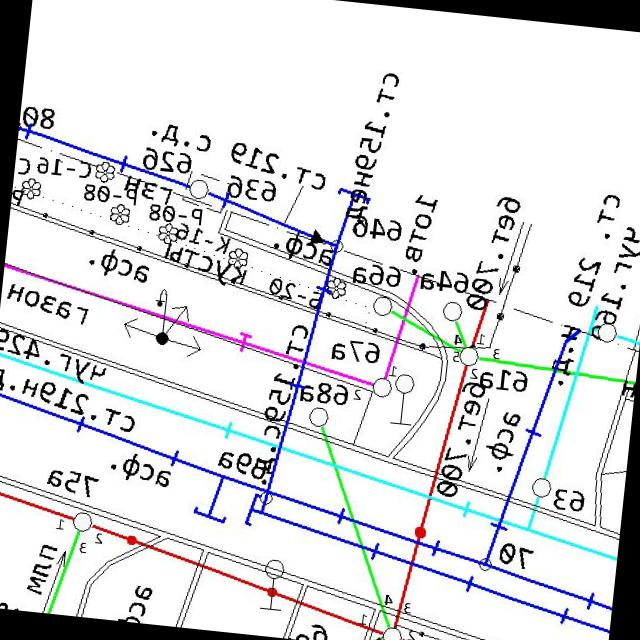asphalt: (482, 408, 523, 475), (85, 245, 152, 284)
bushes: (92, 158, 118, 184), (324, 274, 349, 300), (18, 175, 43, 201), (156, 220, 180, 246), (108, 201, 132, 227), (225, 246, 250, 270)
sing: (256, 556, 288, 612), (388, 372, 418, 426)
well: (370, 293, 396, 318), (306, 404, 331, 430), (70, 508, 94, 534), (440, 299, 464, 324), (529, 475, 553, 500), (457, 344, 481, 368), (187, 177, 210, 201), (596, 320, 619, 344), (371, 376, 394, 400), (379, 623, 404, 640), (476, 556, 494, 572)
